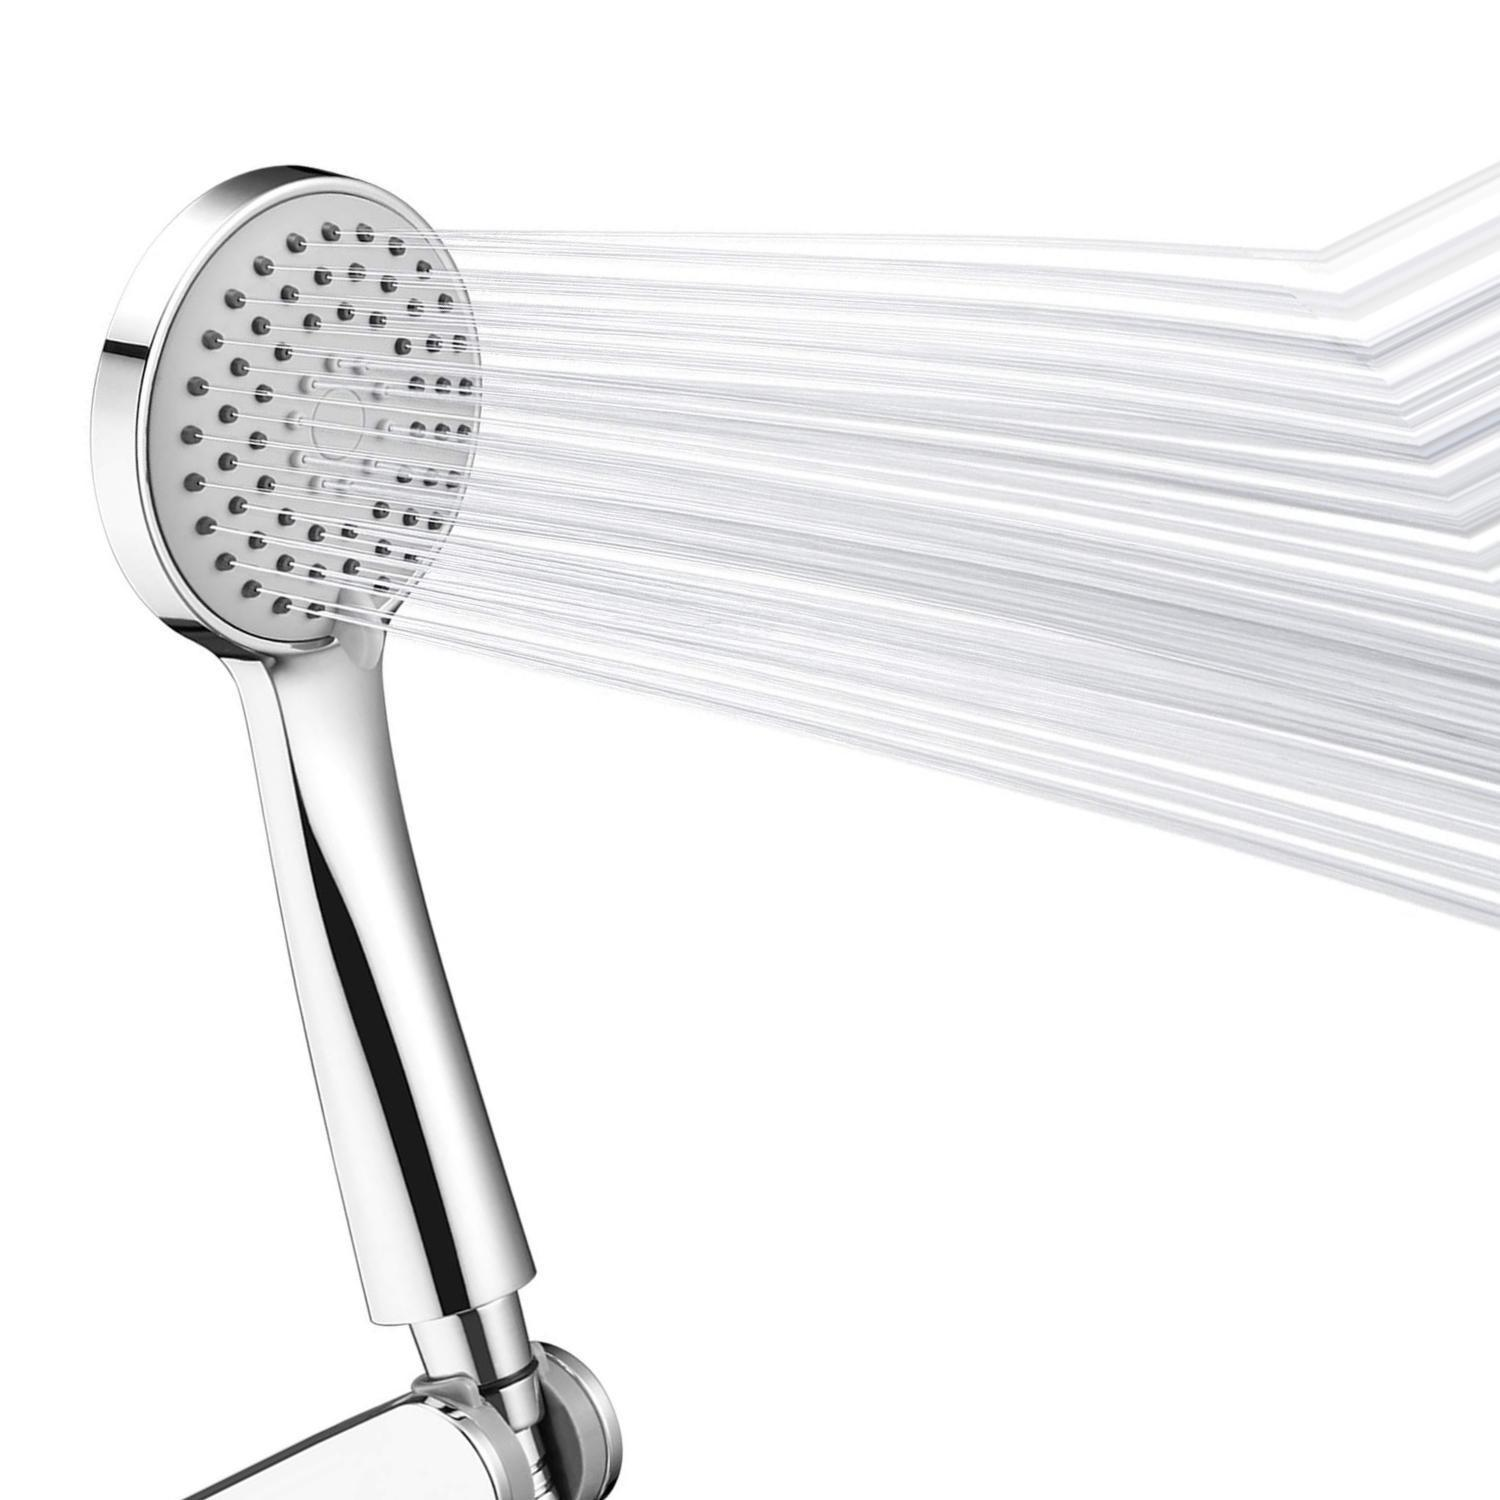Ducha: (0, 155, 1499, 1468)
